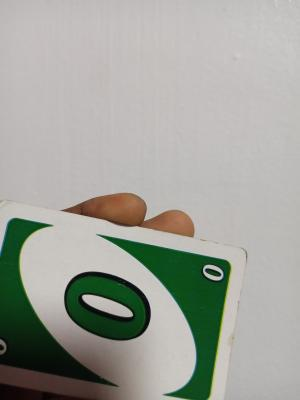green: (0, 288, 33, 370)
num_0: (52, 250, 157, 347), (197, 263, 235, 297)
